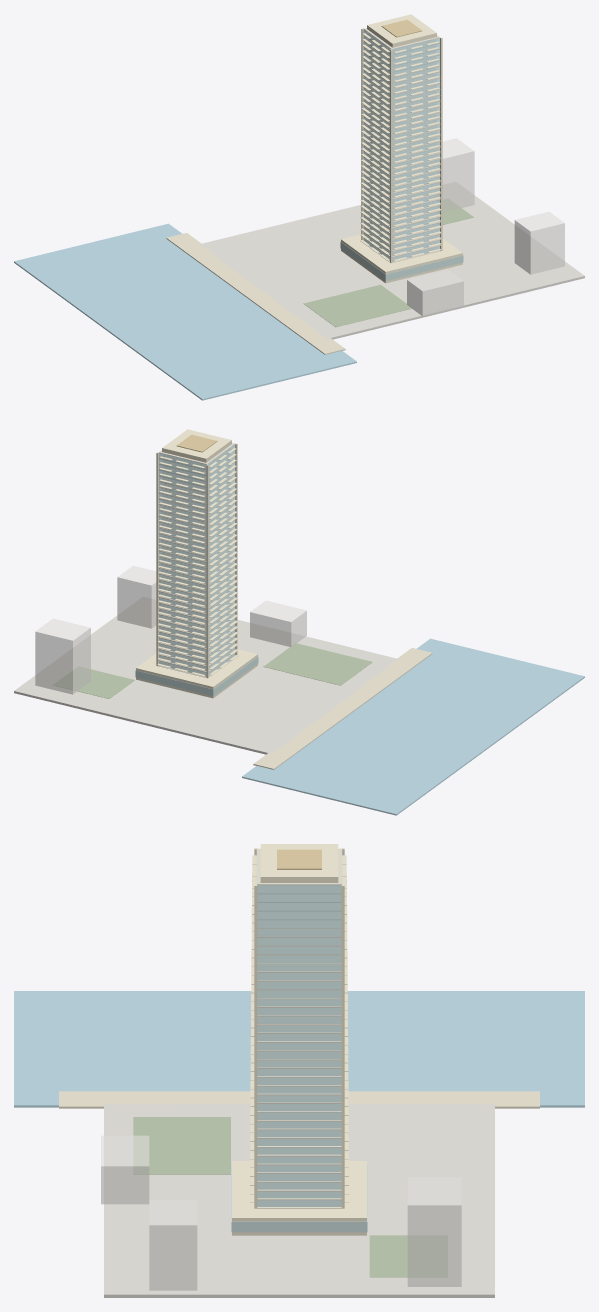
File: rich-dimri-v1.glb
3 renders of one model, top to bottom at view 1: azimuth 30°, elevation 25°; view 2: azimuth 150°, elevation 25°; view 3: azimuth 270°, elevation 25°, orthographic. The views are drawn at different scales.
Visible parts, largest first — view 1: sea, site, b0glass, beach, ctx1, b0pod, green1, ctx0, ctx2, b0crown, b0podglass, b0fin-11 (+3 smaller); view 2: sea, site, b0glass, ctx0, beach, b0pod, green1, ctx1, ctx2, green2, b0crown, b0podglass (+3 smaller); view 3: site, sea, b0glass, ctx0, green1, b0pod, beach, ctx1, ctx2, green2, b0crown, b0podglass (+40 smaller).
Boxes of the visible parts, left/top/right/bottom form: sea: left=14, top=223, right=356, bottom=400; site: left=199, top=182, right=584, bottom=339; b0glass: left=363, top=29, right=439, bottom=261; beach: left=166, top=233, right=345, bottom=354; ctx1: left=514, top=212, right=564, bottom=274; b0pod: left=341, top=233, right=462, bottom=283; green1: left=303, top=284, right=412, bottom=327; ctx0: left=437, top=138, right=474, bottom=212; ctx2: left=407, top=270, right=463, bottom=316; b0crown: left=367, top=14, right=436, bottom=47; b0podglass: left=340, top=241, right=463, bottom=281; b0fin-11: left=390, top=49, right=392, bottom=263; sea: left=242, top=638, right=584, bottom=815; site: left=14, top=597, right=399, bottom=754; b0glass: left=159, top=444, right=235, bottom=676; ctx0: left=35, top=618, right=90, bottom=694; beach: left=253, top=648, right=432, bottom=769; b0pod: left=136, top=648, right=257, bottom=698; green1: left=263, top=643, right=372, bottom=685; ctx1: left=117, top=565, right=161, bottom=628; ctx2: left=250, top=600, right=306, bottom=646; green2: left=53, top=666, right=134, bottom=698; b0crown: left=162, top=429, right=231, bottom=462; b0podglass: left=135, top=656, right=258, bottom=696; site: left=104, top=1104, right=494, bottom=1297; sea: left=14, top=991, right=584, bottom=1107; b0glass: left=256, top=849, right=342, bottom=1206; ctx0: left=407, top=1177, right=461, bottom=1286; green1: left=133, top=1117, right=230, bottom=1174; b0pod: left=232, top=1161, right=366, bottom=1235; beach: left=59, top=1091, right=539, bottom=1108; ctx1: left=149, top=1200, right=197, bottom=1290; ctx2: left=101, top=1135, right=149, bottom=1204; green2: left=369, top=1235, right=447, bottom=1277; b0crown: left=260, top=844, right=338, bottom=882; b0podglass: left=231, top=1164, right=367, bottom=1232.
Size of the model in its own units: 240 by 129 by 190.
